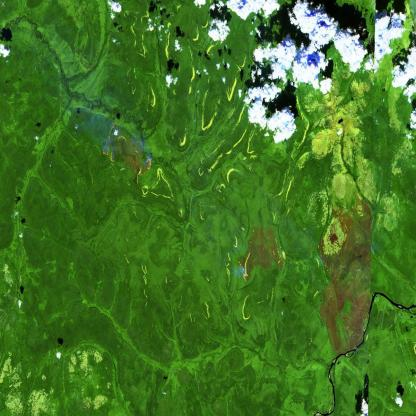fire: (100, 144, 121, 169), (236, 255, 252, 284), (140, 152, 156, 178)
